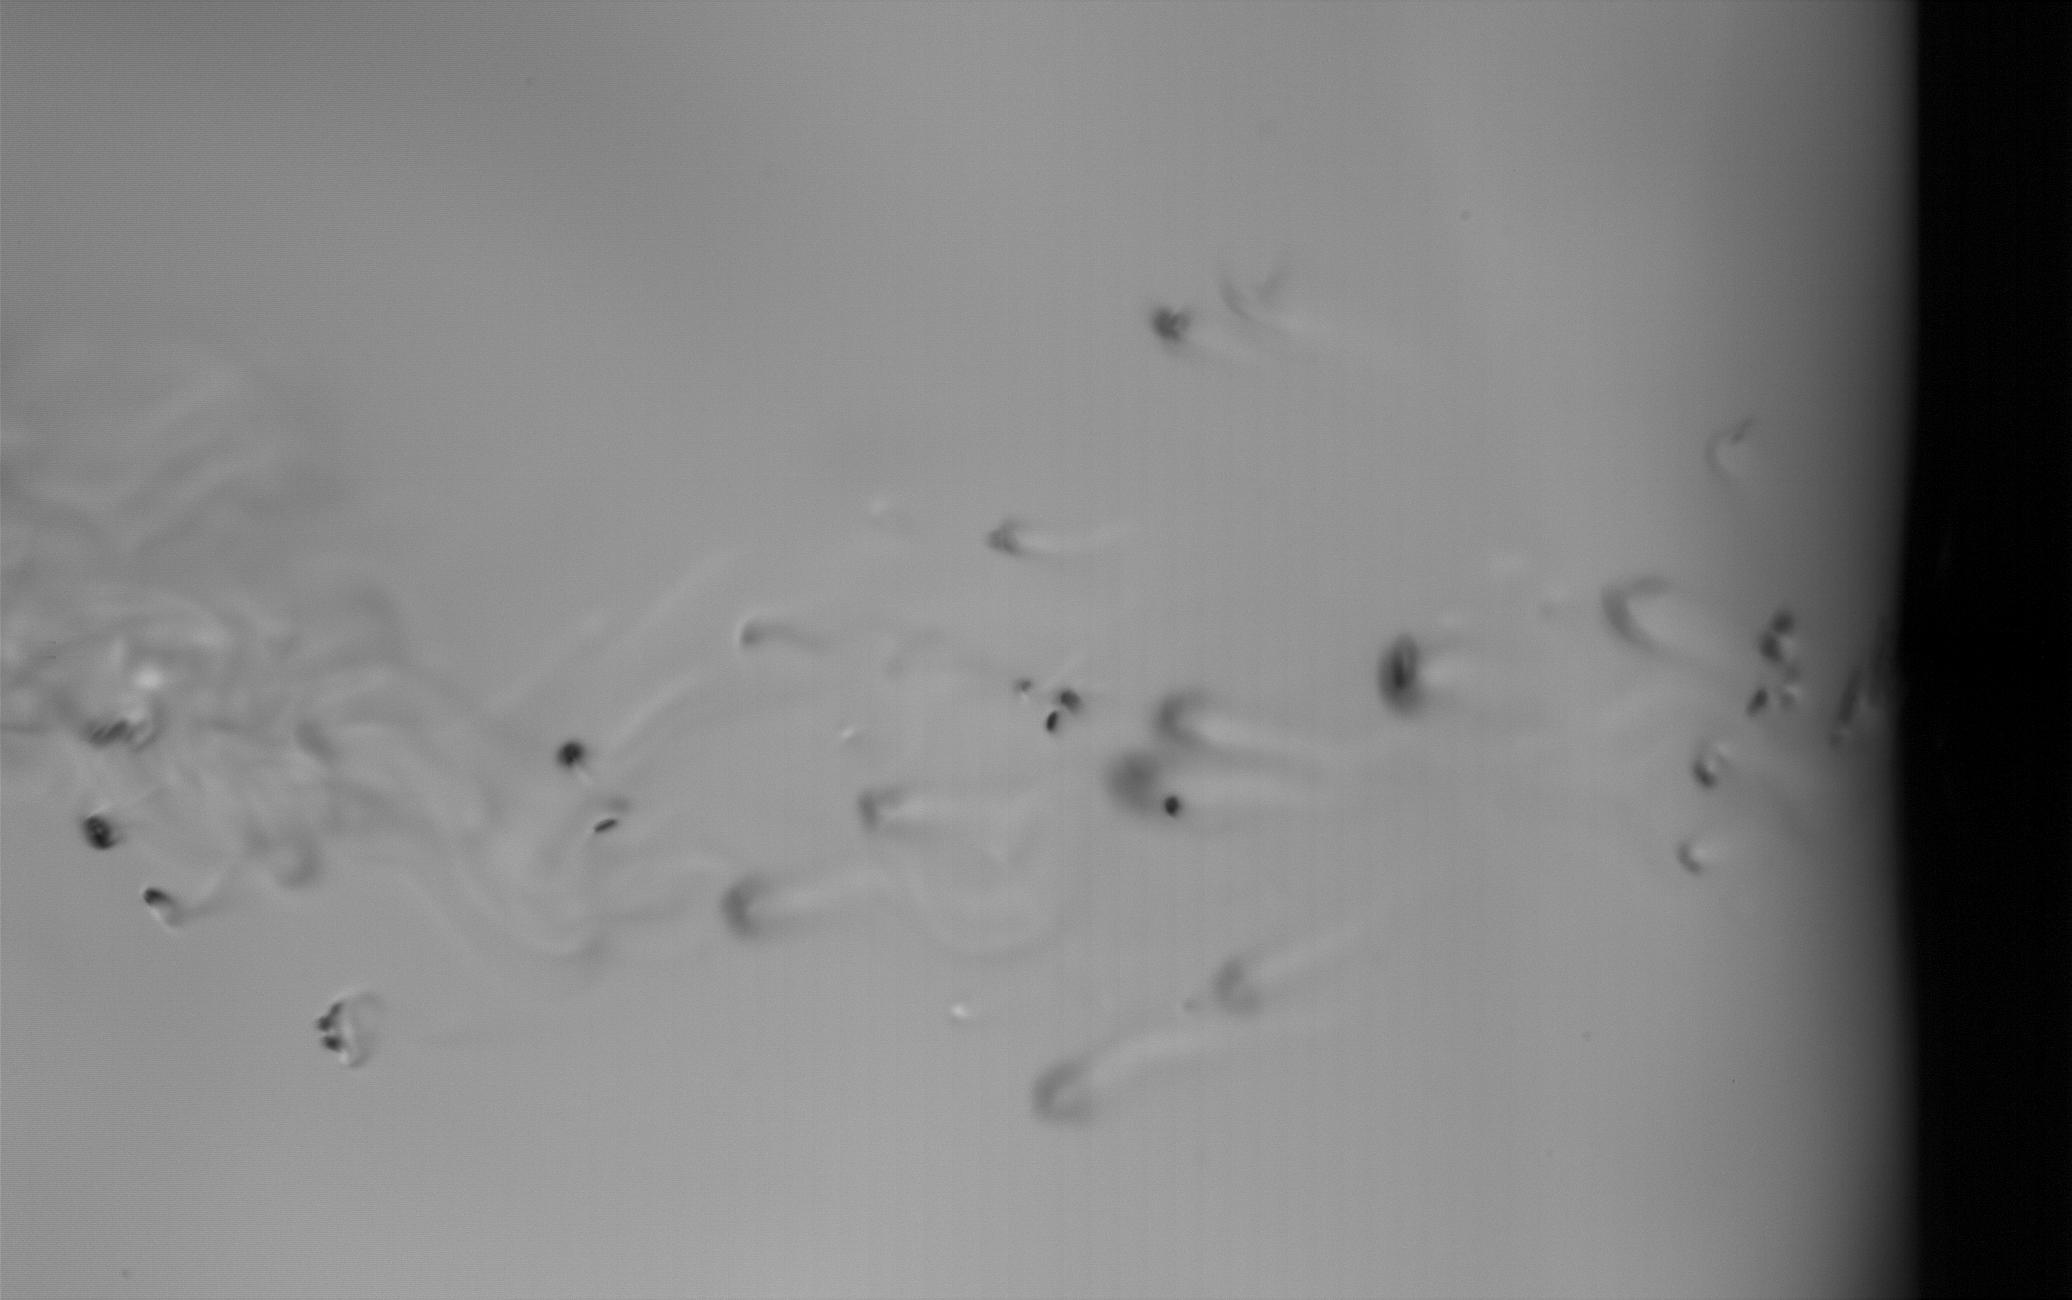Blurry: (315, 988, 383, 1069), (1375, 620, 1427, 716), (84, 695, 149, 756), (732, 614, 805, 658), (1754, 602, 1794, 674), (1146, 303, 1199, 346), (140, 883, 183, 932), (1690, 745, 1724, 796), (1676, 829, 1707, 882), (1158, 787, 1188, 825), (1058, 688, 1085, 725), (1744, 683, 1769, 722)
ClassicalEvaporation: (556, 736, 594, 774)
DiffusiveMixing: (1098, 687, 1243, 833), (719, 860, 868, 940), (1597, 562, 1672, 654), (1028, 1053, 1103, 1126), (863, 784, 932, 851), (986, 516, 1062, 574), (1211, 960, 1264, 1020)
TransitionalMixing: (78, 809, 122, 855), (587, 815, 626, 837), (1043, 707, 1063, 736)
